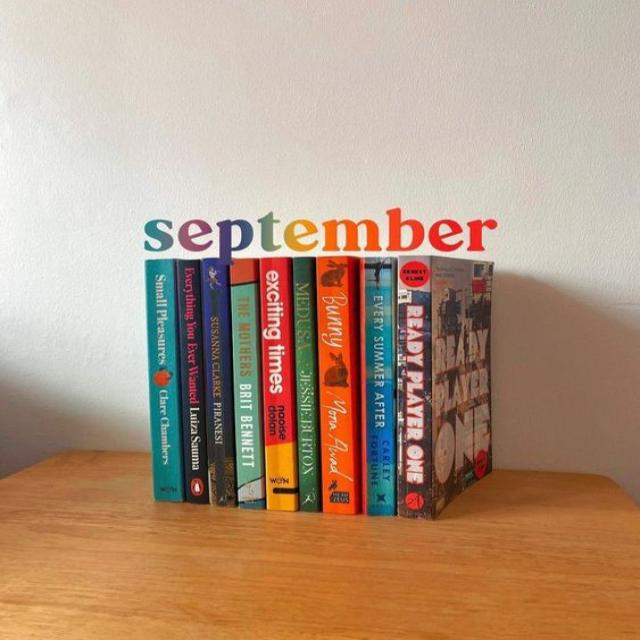book: (397, 257, 433, 520), (318, 257, 354, 513), (258, 259, 294, 510), (146, 260, 183, 501), (231, 258, 264, 510), (203, 260, 236, 507), (365, 258, 396, 516), (176, 260, 208, 504), (293, 258, 320, 513)
